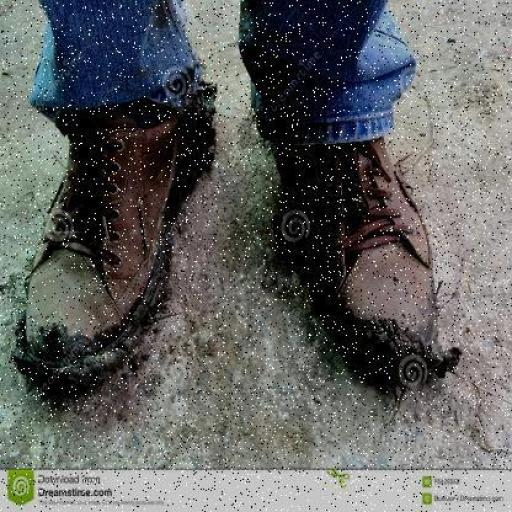safety_shoe: (26, 110, 200, 376), (265, 144, 444, 380)
